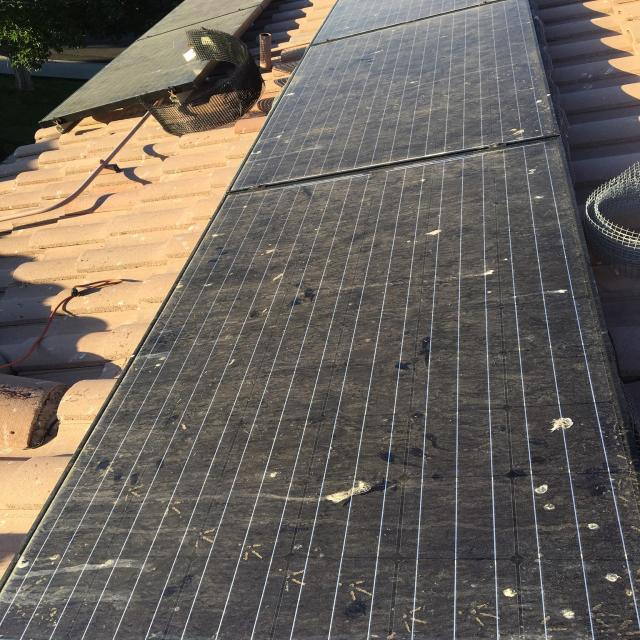dust-solar-panel: (40, 0, 275, 127)
